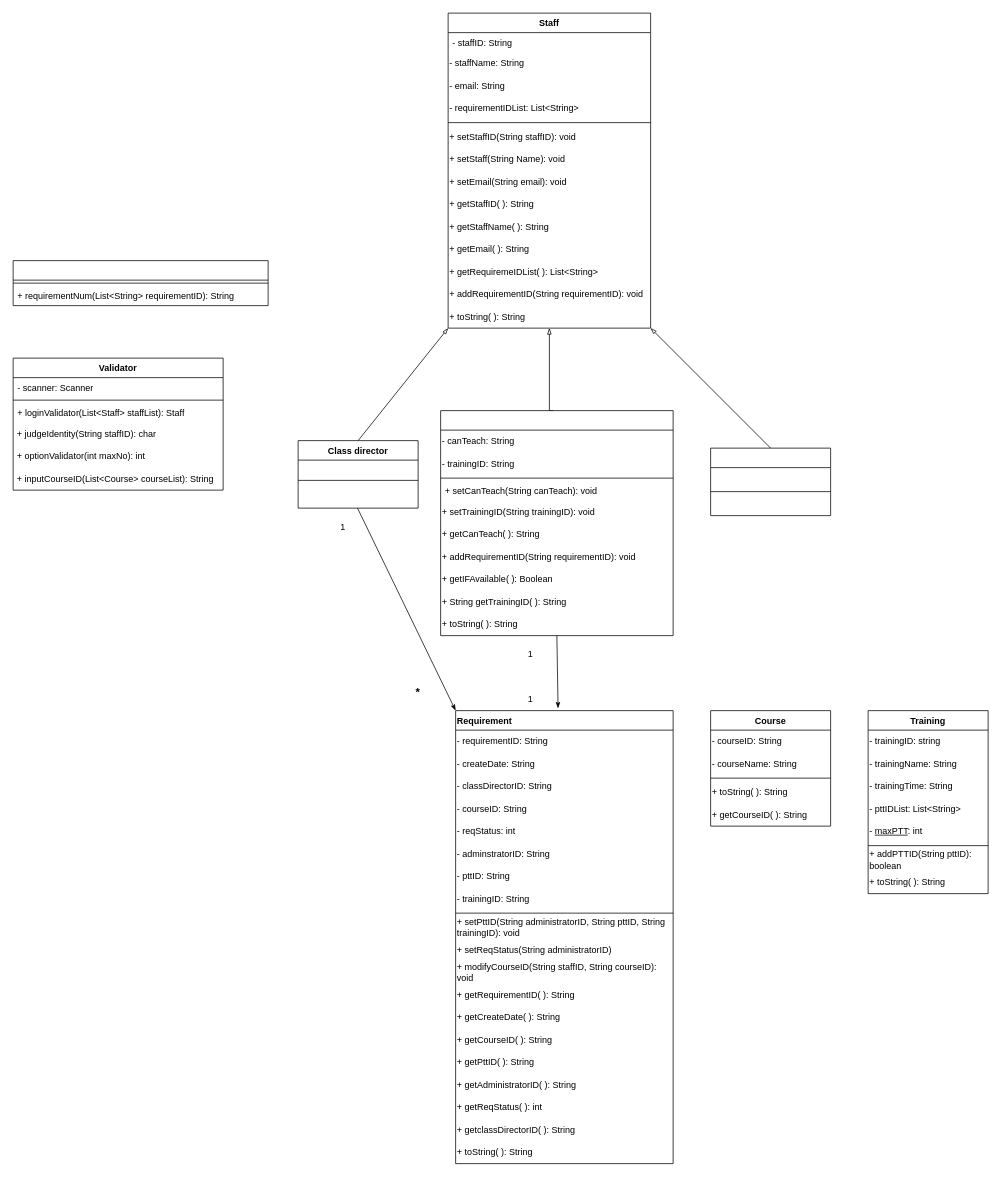
Image size: 1001x1177. Some labels were removed from this diagram. Each missing label, with the box of its shape:
Adminstrator: (710, 447, 831, 516)
NumberGeneration: (12, 260, 268, 306)
PTT: (440, 410, 673, 636)
